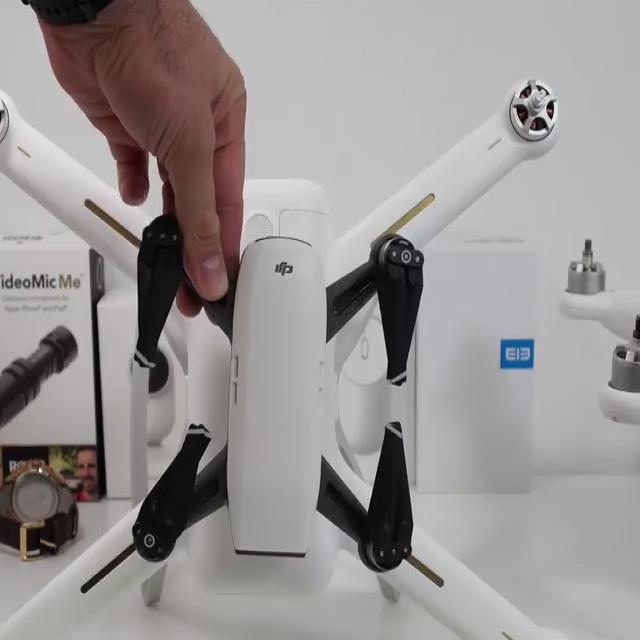drone: (0, 67, 599, 640)
